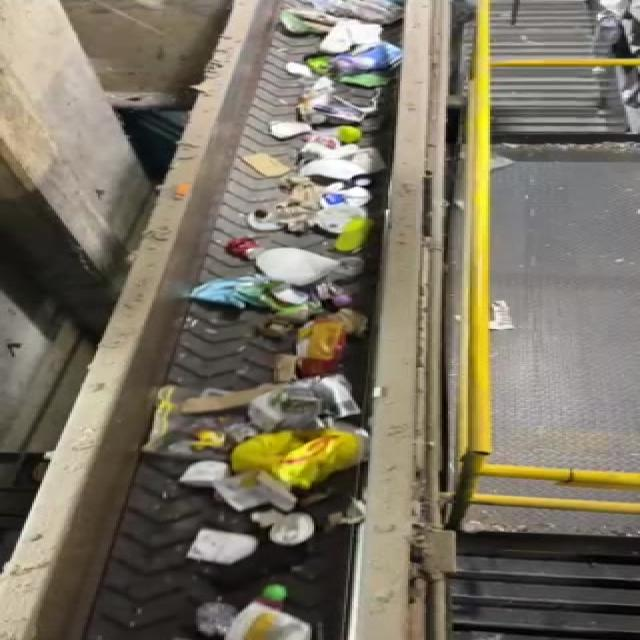paper: (175, 386, 392, 431), (187, 524, 258, 568)
pp: (182, 435, 377, 491), (272, 502, 332, 553)
